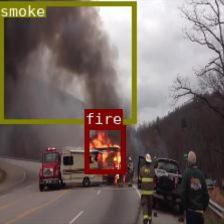fire: (84, 124, 124, 173)
smoke: (0, 1, 136, 122)
